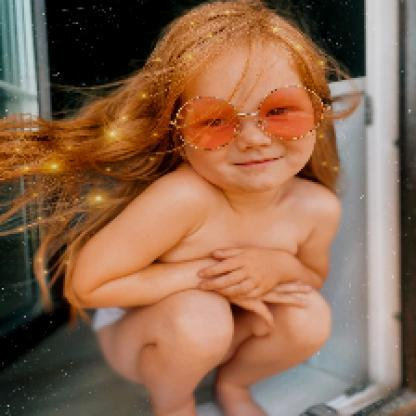child: (1, 1, 345, 415)
